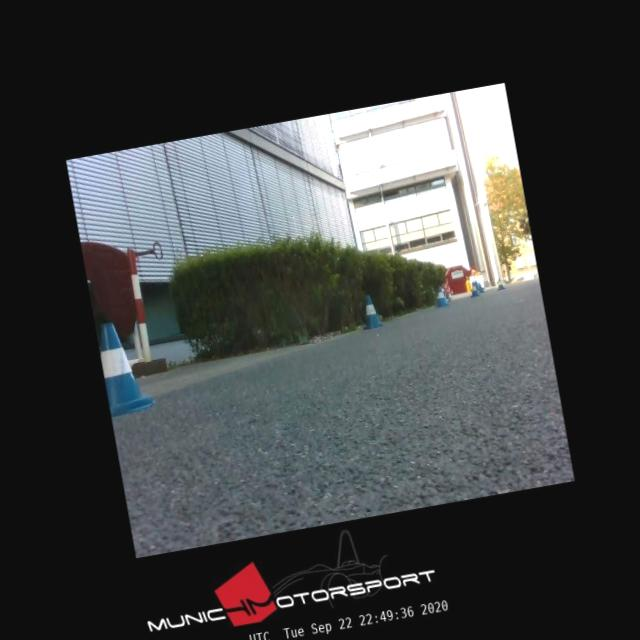blue_cone: (95, 317, 155, 415), (358, 293, 383, 329), (433, 284, 448, 308), (468, 281, 479, 297), (496, 276, 504, 290), (476, 281, 484, 293)
